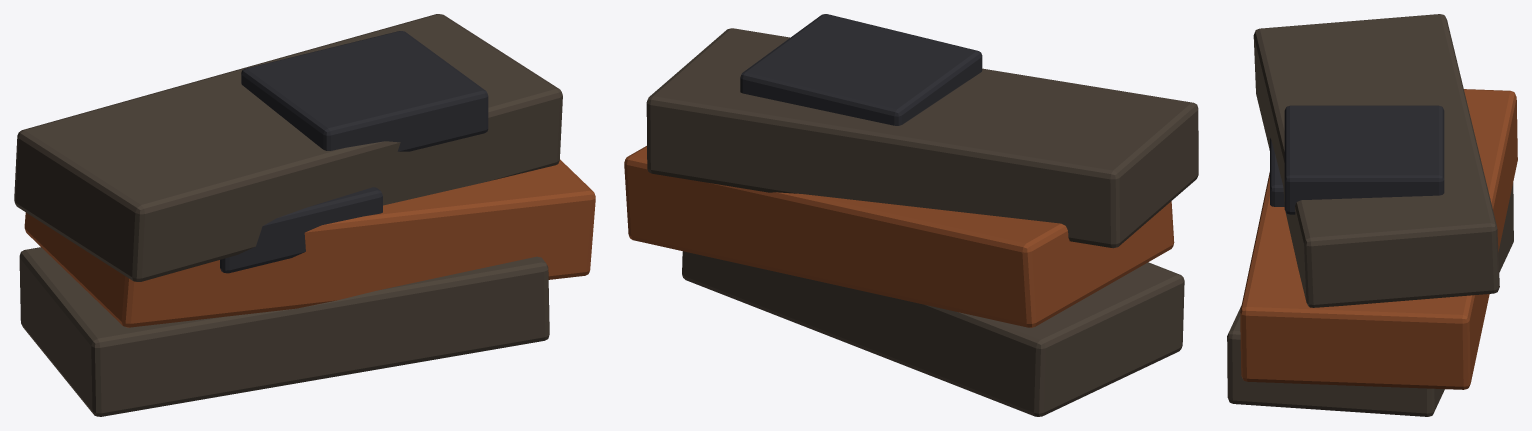
The model's file is car_stack_2.glb.
3 views of the same model, side by side, from view 1: azimuth 30°, elevation 25°; view 2: azimuth 150°, elevation 25°; view 3: azimuth 270°, elevation 25° (orthographic). The views are drawn at different scales.
Parts seen in each view (by area): view 1: car_stack; view 2: car_stack; view 3: car_stack.
Boxes of the visible parts, bbox=[...] form: car_stack: bbox=[14, 14, 595, 416]; car_stack: bbox=[624, 14, 1198, 416]; car_stack: bbox=[1227, 14, 1517, 416].
Bounding box in the file's own units: 4.04 × 1.91 × 2.24.
